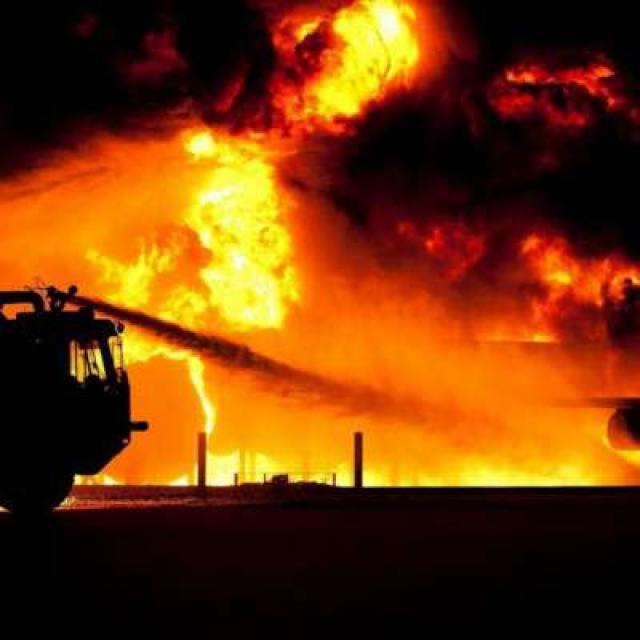Fire: (254, 282, 639, 502), (71, 125, 301, 380), (249, 0, 456, 144)
Smoke: (378, 71, 638, 268)
